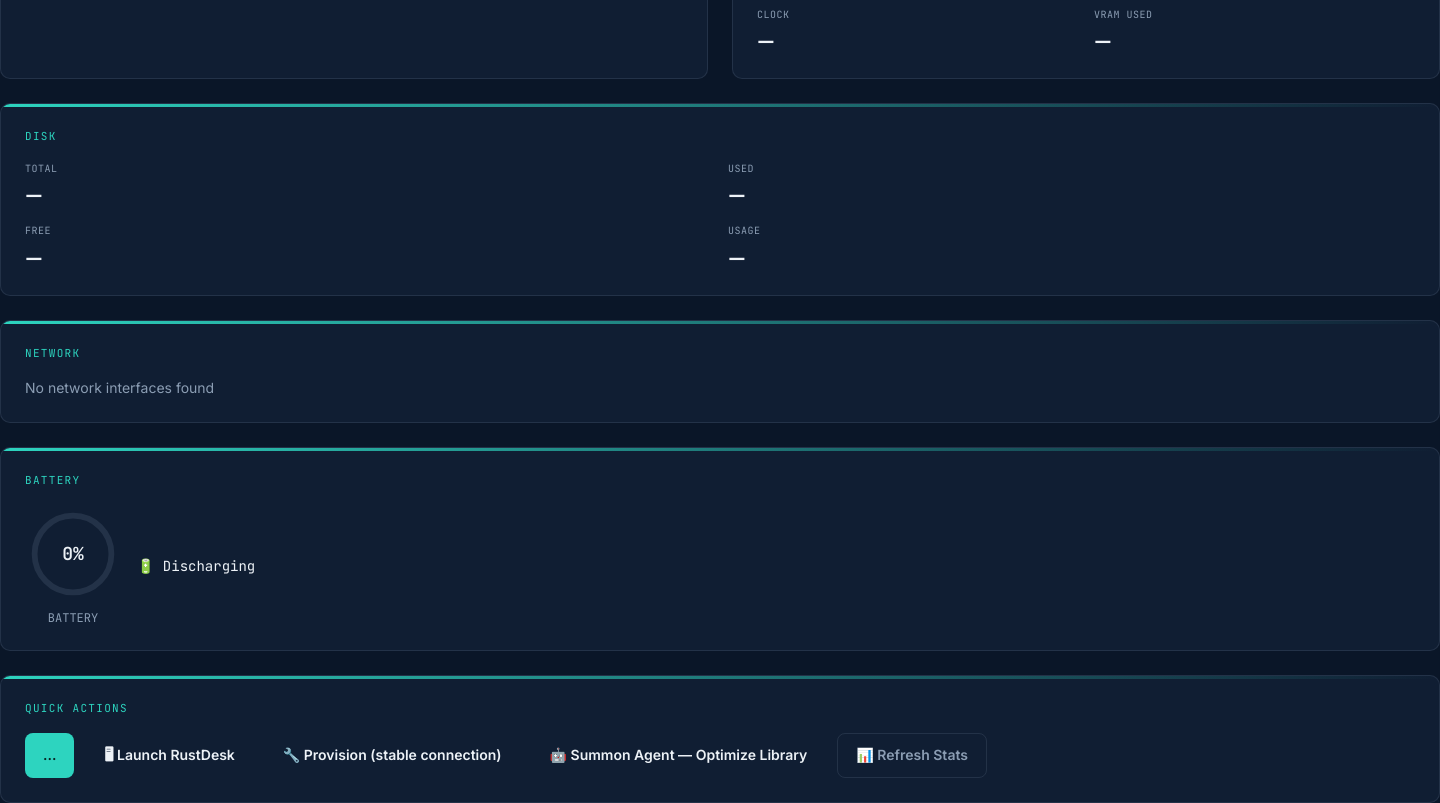
Scenario: SteamDeckPage › opens the agent terminal and shows the status card
(page scrolled)
Click the button "🤖 Summon Agent — Optimize Library" at (678,756), box [532,733,825,778]
(page scrolled)
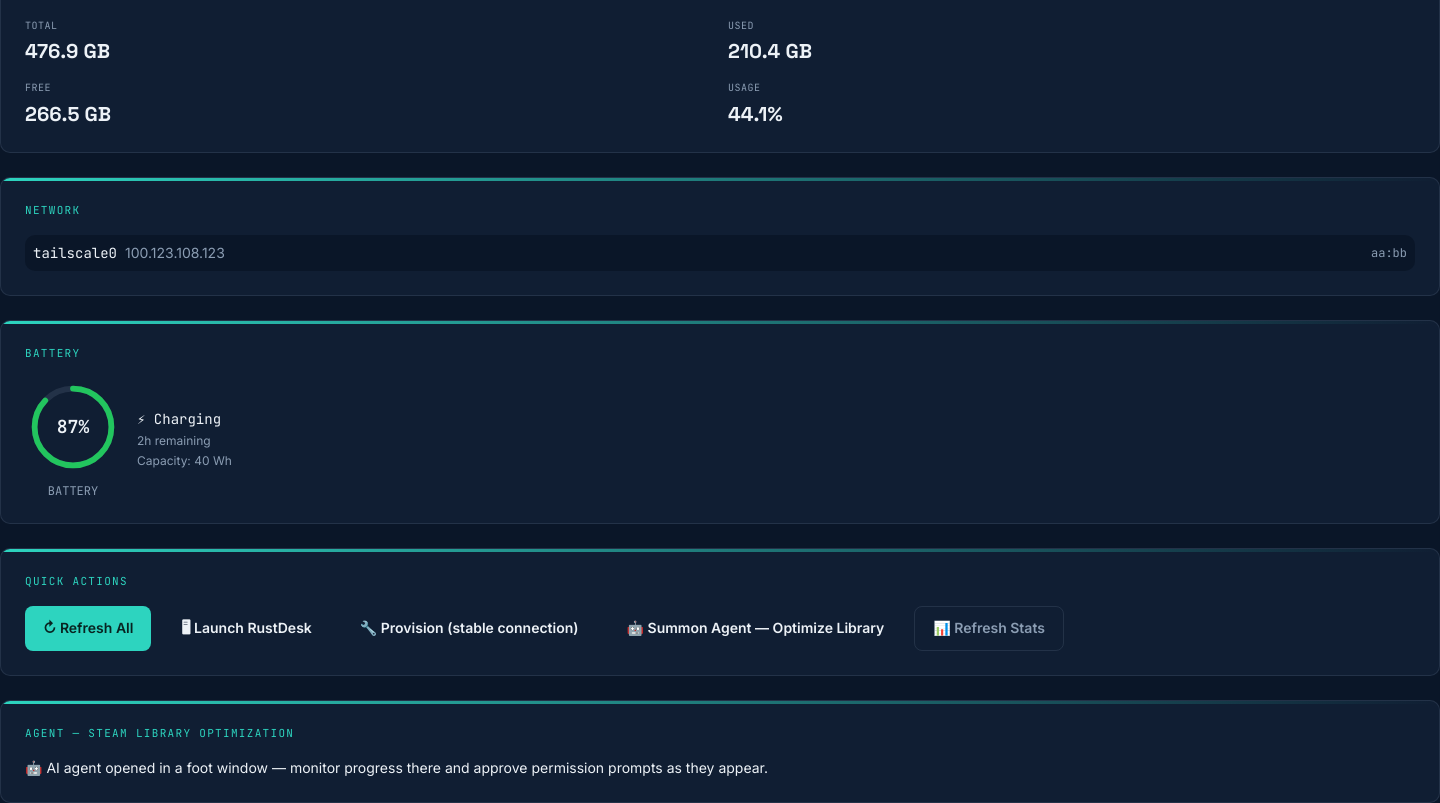
Check: the text "AI agent opened in a foot window" is shown, box [25,759,768,776]
